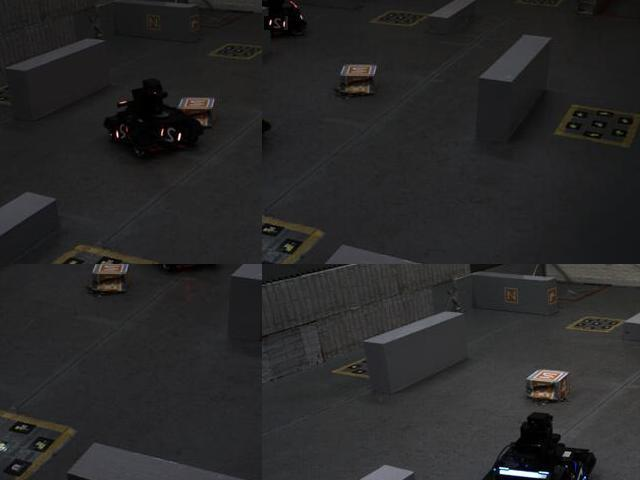armor: (158, 125, 187, 150), (113, 120, 133, 144), (265, 17, 290, 32), (571, 462, 590, 479)
